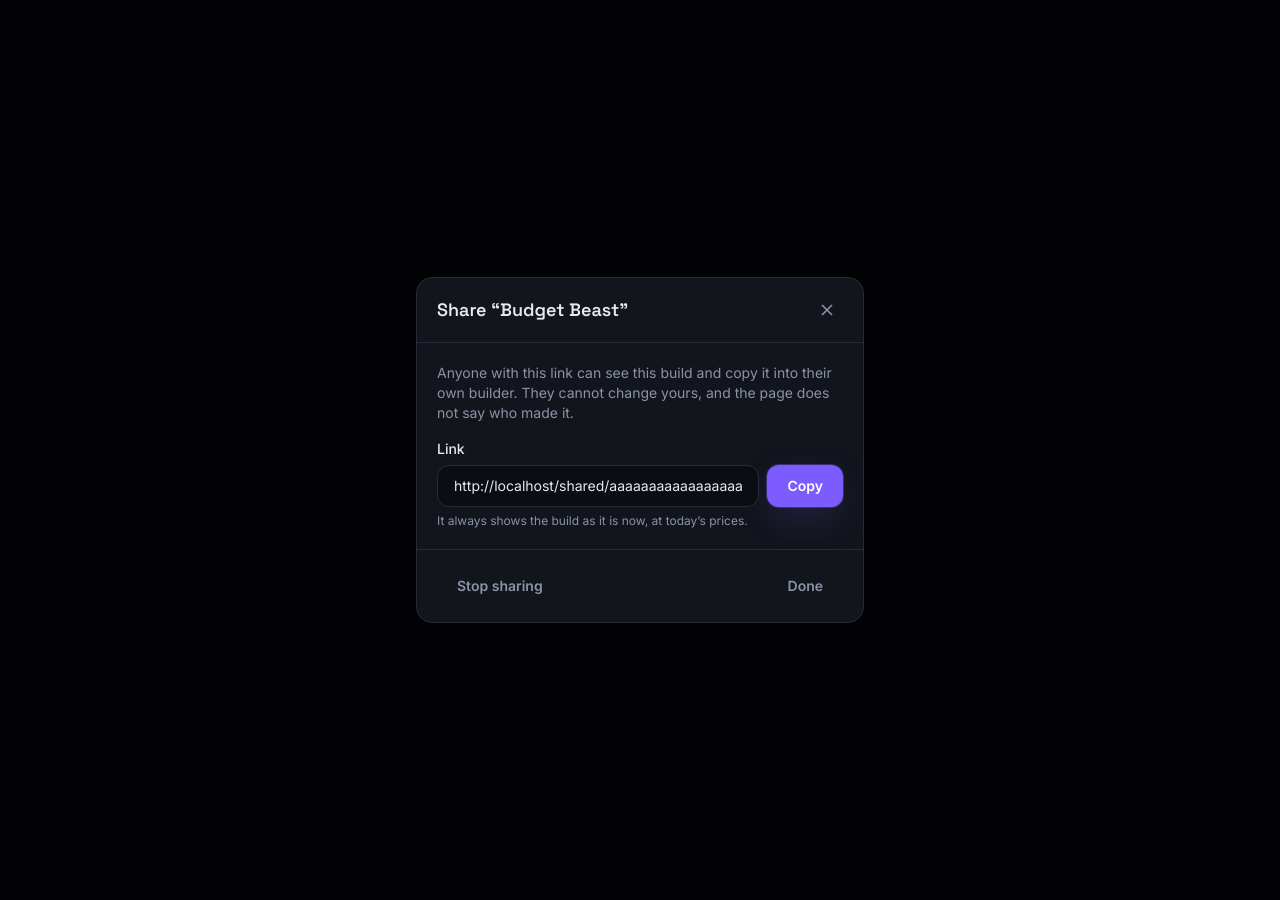
Test: sharing one of my builds › stops sharing: the link is gone and the build is private again
Click the button "Stop sharing" at (500, 586), box [437,566,563,606]
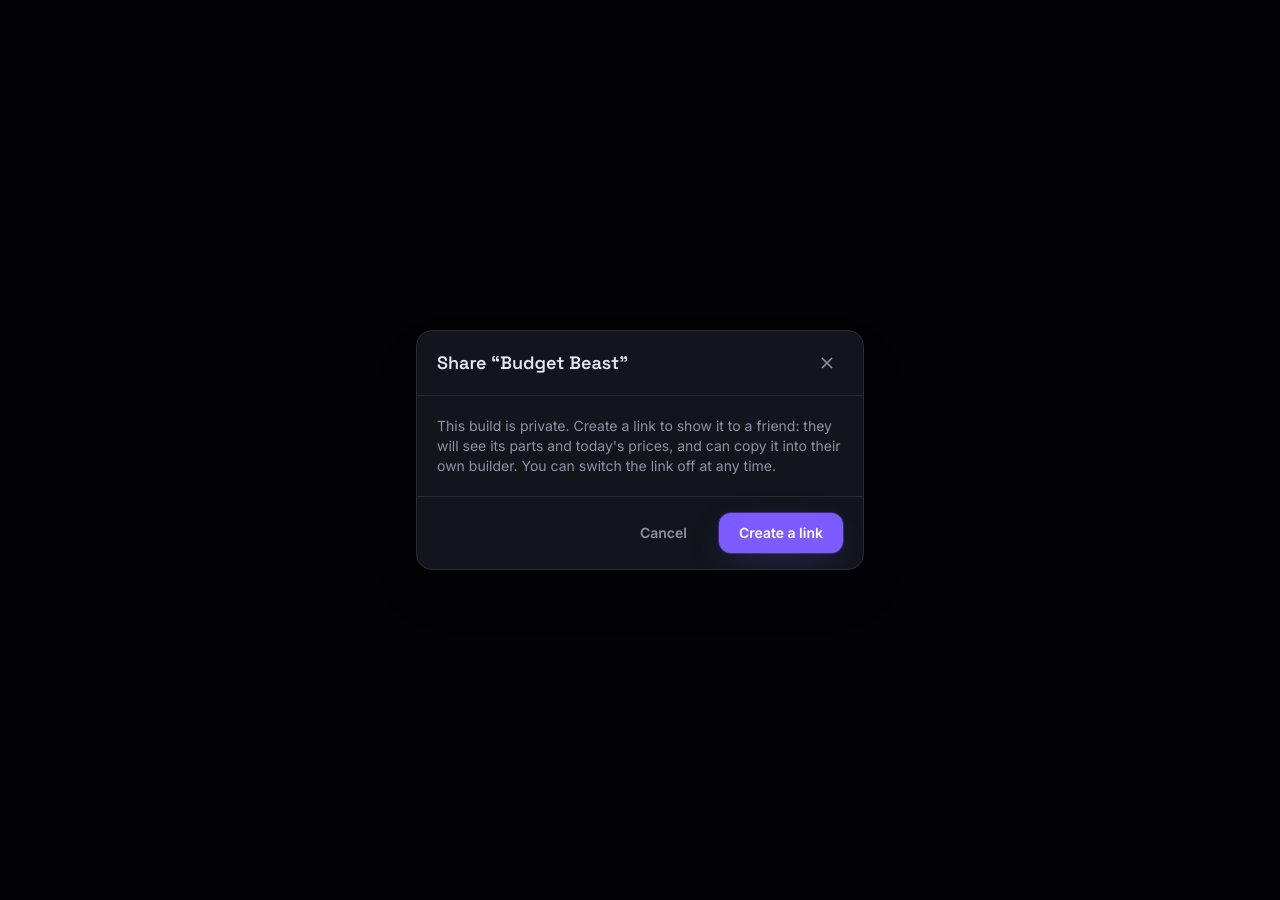
Check: the label with id "share-link" is gone
Check: the text "This build is private." is shown, box [437,417,841,474]
